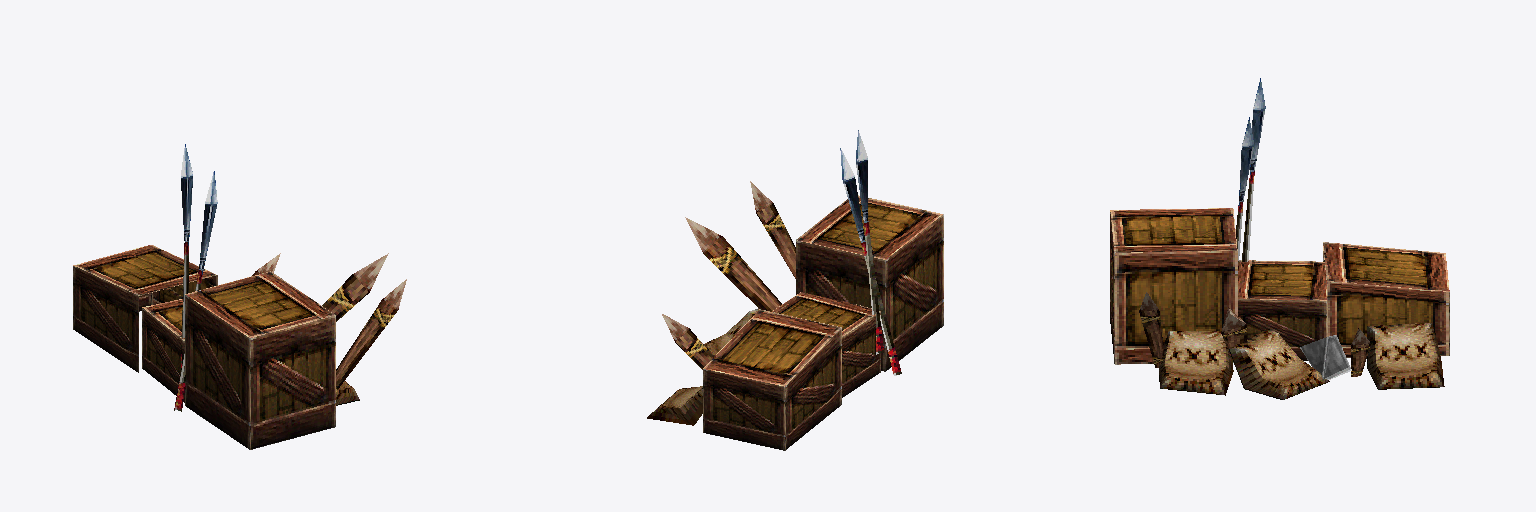
3 renders of one model, left to right at view 1: azimuth 30°, elevation 25°; view 2: azimuth 150°, elevation 25°; view 3: azimuth 270°, elevation 25°, orthographic.
Parts seen in each view (by area): view 1: Barricade0(m0); view 2: Barricade0(m0); view 3: Barricade0(m0).
Part boxes in pixels (left/top/right/bottom): Barricade0(m0): left=73, top=144, right=406, bottom=449; Barricade0(m0): left=647, top=130, right=943, bottom=450; Barricade0(m0): left=1110, top=78, right=1449, bottom=399.
Size of the model in its own units: 3.46 by 4.27 by 4.71.
1 materials, 1 textured.